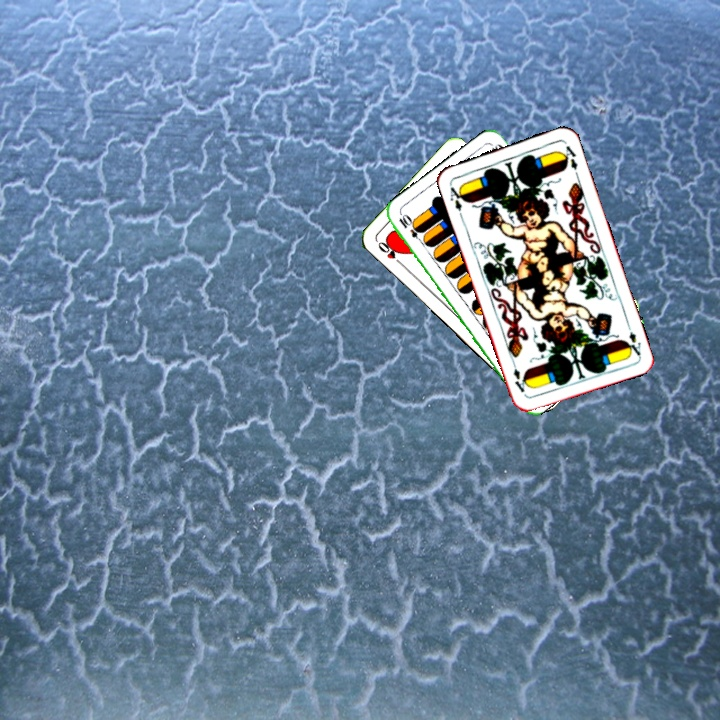E10: (395, 211, 427, 247)
EA: (622, 319, 643, 358), (446, 183, 468, 220)
HO: (374, 238, 406, 269)
